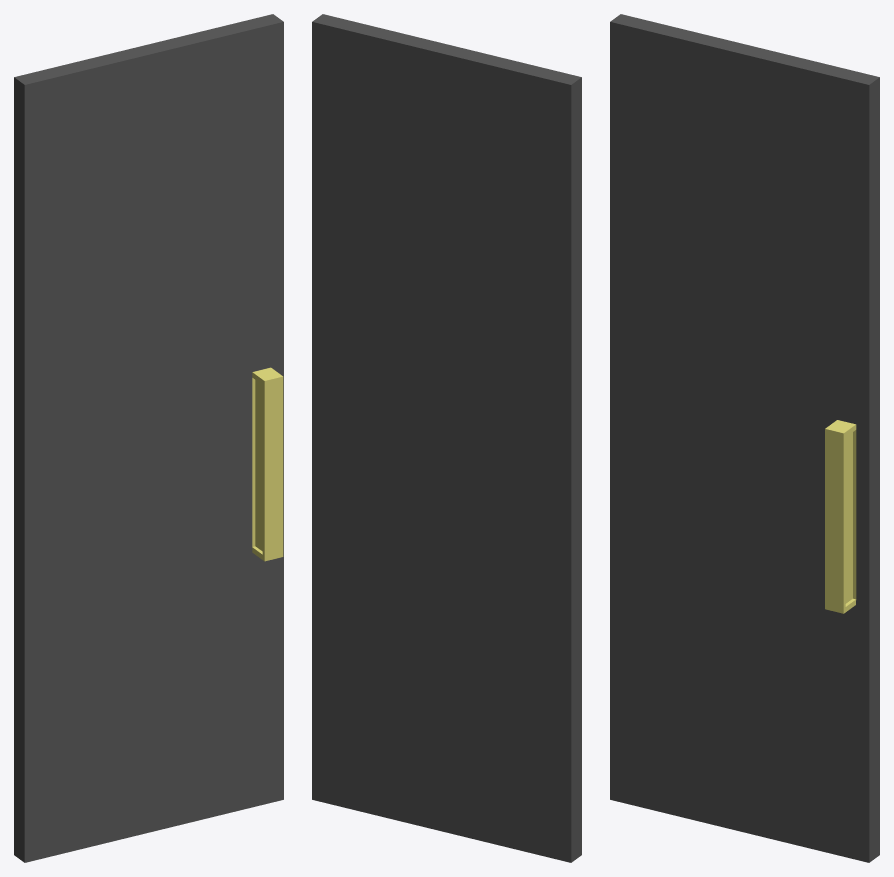
The model's file is Itr_Wardrobe3_Door_Left_04.FBX.
The picture shows the model from 3 angles, left to right: view 1: azimuth 30°, elevation 25°; view 2: azimuth 150°, elevation 25°; view 3: azimuth 330°, elevation 25°; orthographic projection.
Parts seen in each view (by area): view 1: Itr_Wardrobe3_Door_Left_04; view 2: Itr_Wardrobe3_Door_Left_04; view 3: Itr_Wardrobe3_Door_Left_04.
Part boxes in pixels (x1=…): Itr_Wardrobe3_Door_Left_04: x1=14, y1=14, x2=283, y2=862; Itr_Wardrobe3_Door_Left_04: x1=312, y1=14, x2=581, y2=862; Itr_Wardrobe3_Door_Left_04: x1=610, y1=14, x2=879, y2=862.
Size of the model in its own units: 20.07 by 57.59 by 3.1.
